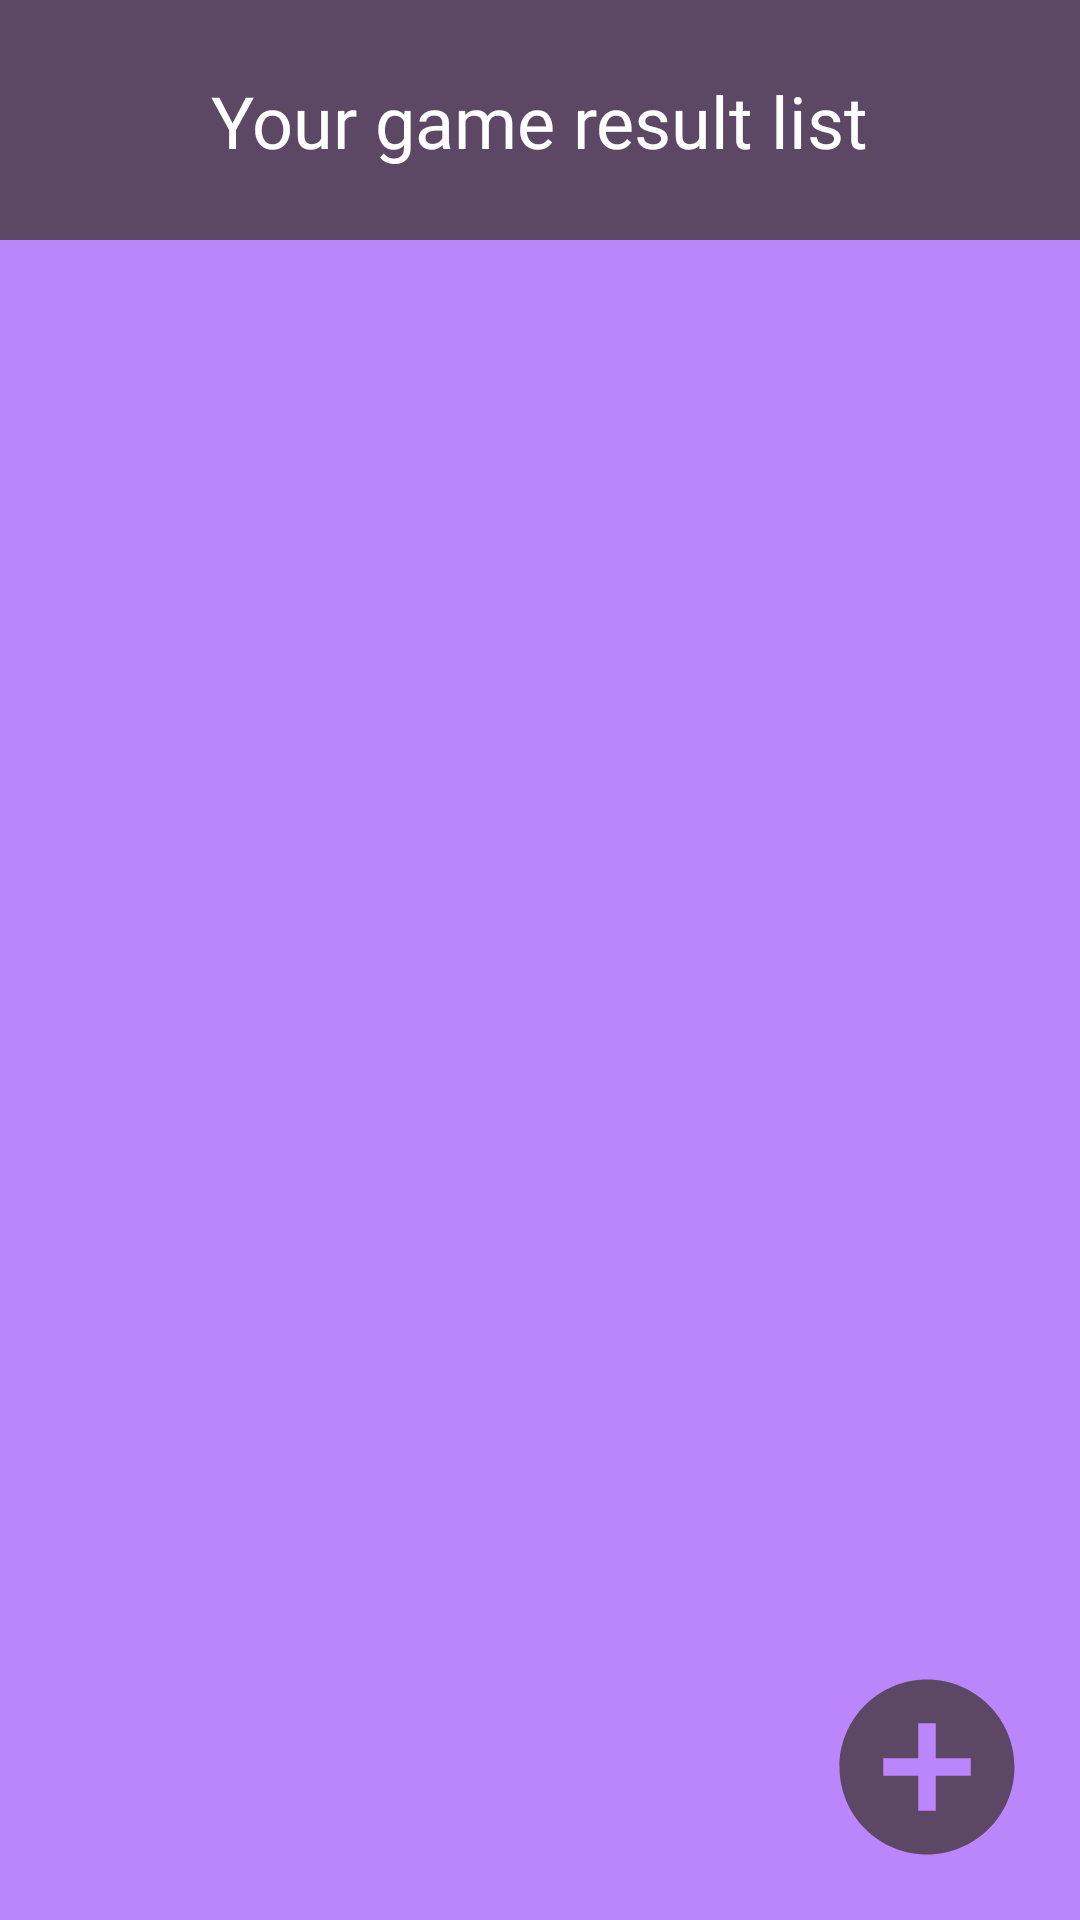

Screen size 1080 × 1920. Icon name, then its box in pixels as bbox=(x1, y1, x2, y2):
add: bbox=(839, 1679, 1015, 1855)
